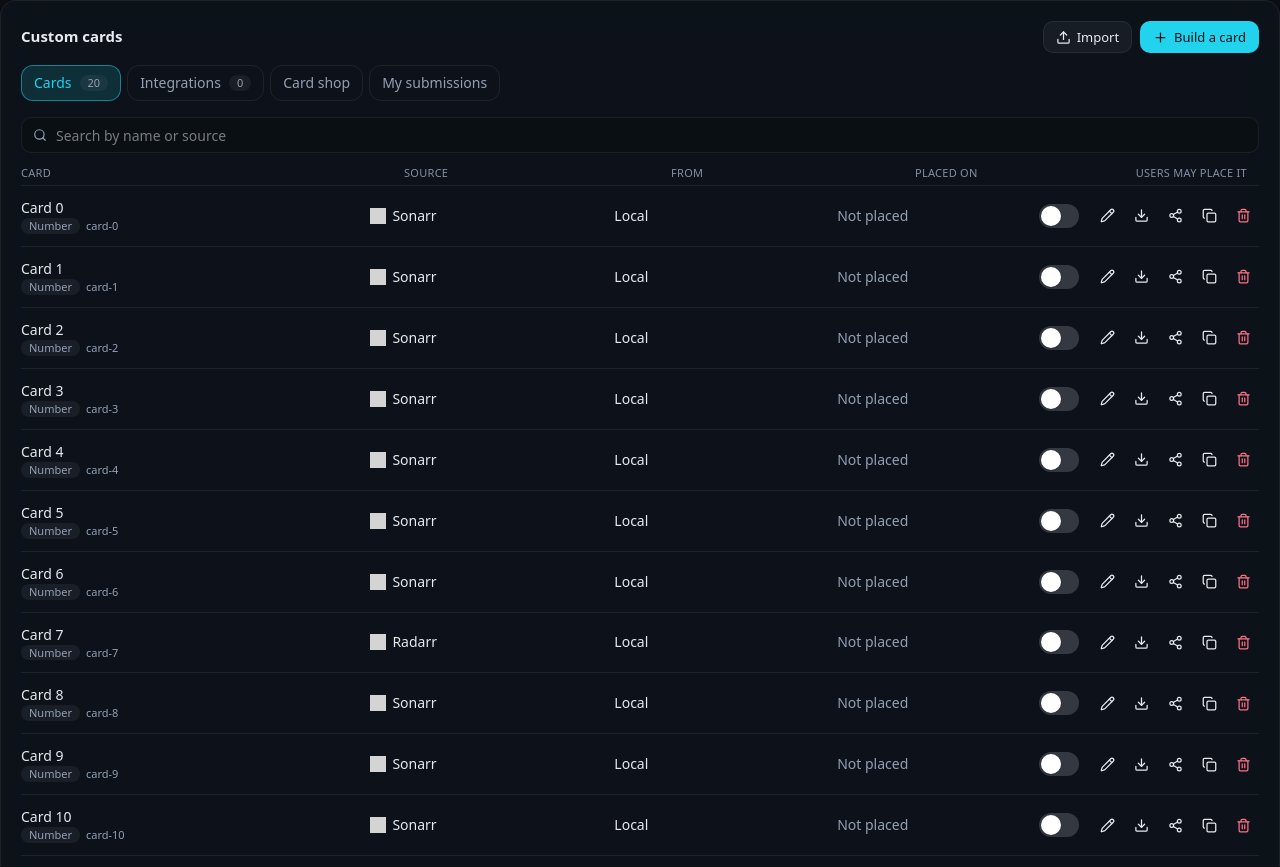
Test: the list › karten11 ec5: from twenty cards on there is a search by name and source, below twenty there is none
Expected: the text "Card 0" is shown, top-left (21, 198), bottom-right (64, 217)
Type "radarr" into the field with placeholder "Search by name or source".
click(640, 135); type("radarr")  # box top-left (21, 117), bottom-right (1259, 153)
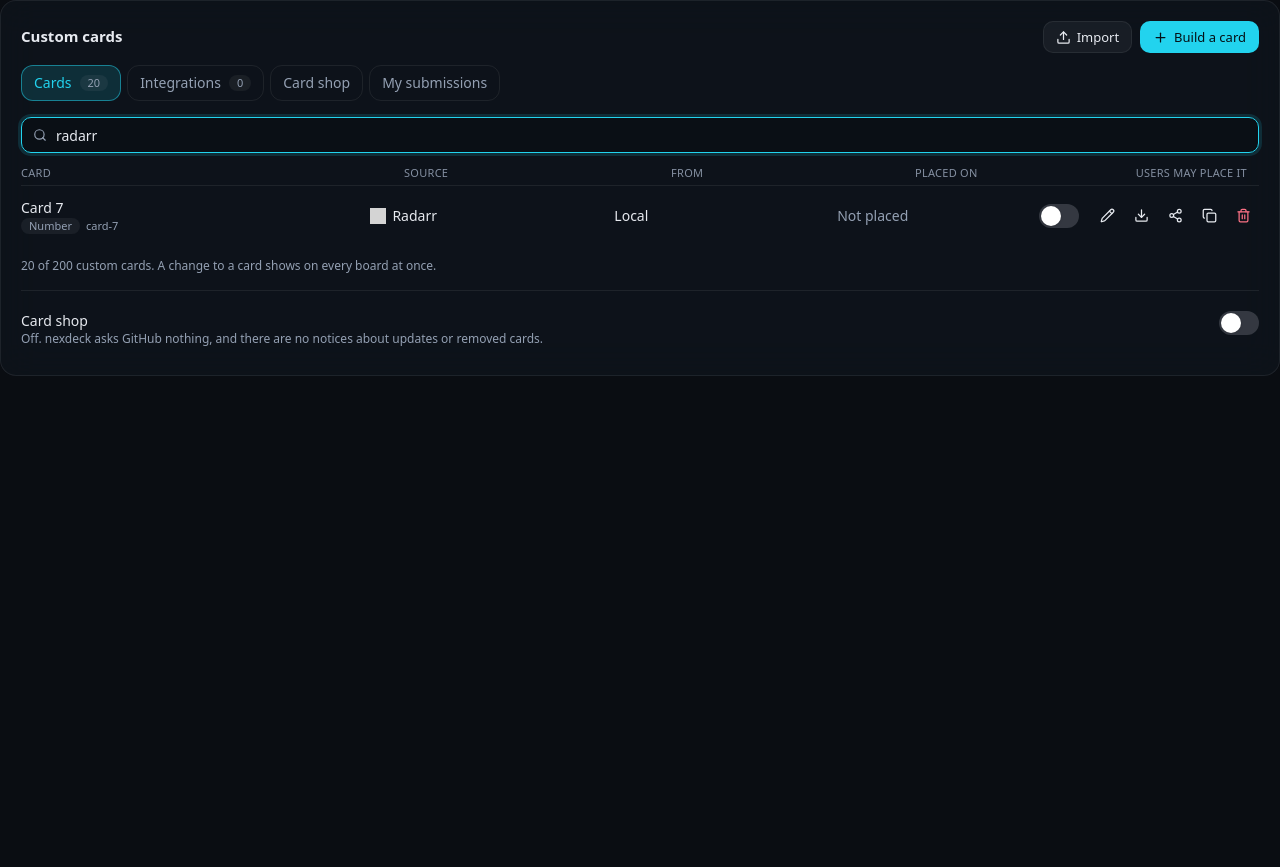
Expected: the text "Card 7" is shown, top-left (21, 198), bottom-right (64, 217)
Result: the number of list items is 1 at top-left (21, 198), bottom-right (1259, 234)
Replace the text in the field named "Search by name or source" with "card 1" at (640, 135), box top-left (21, 117), bottom-right (1259, 153)
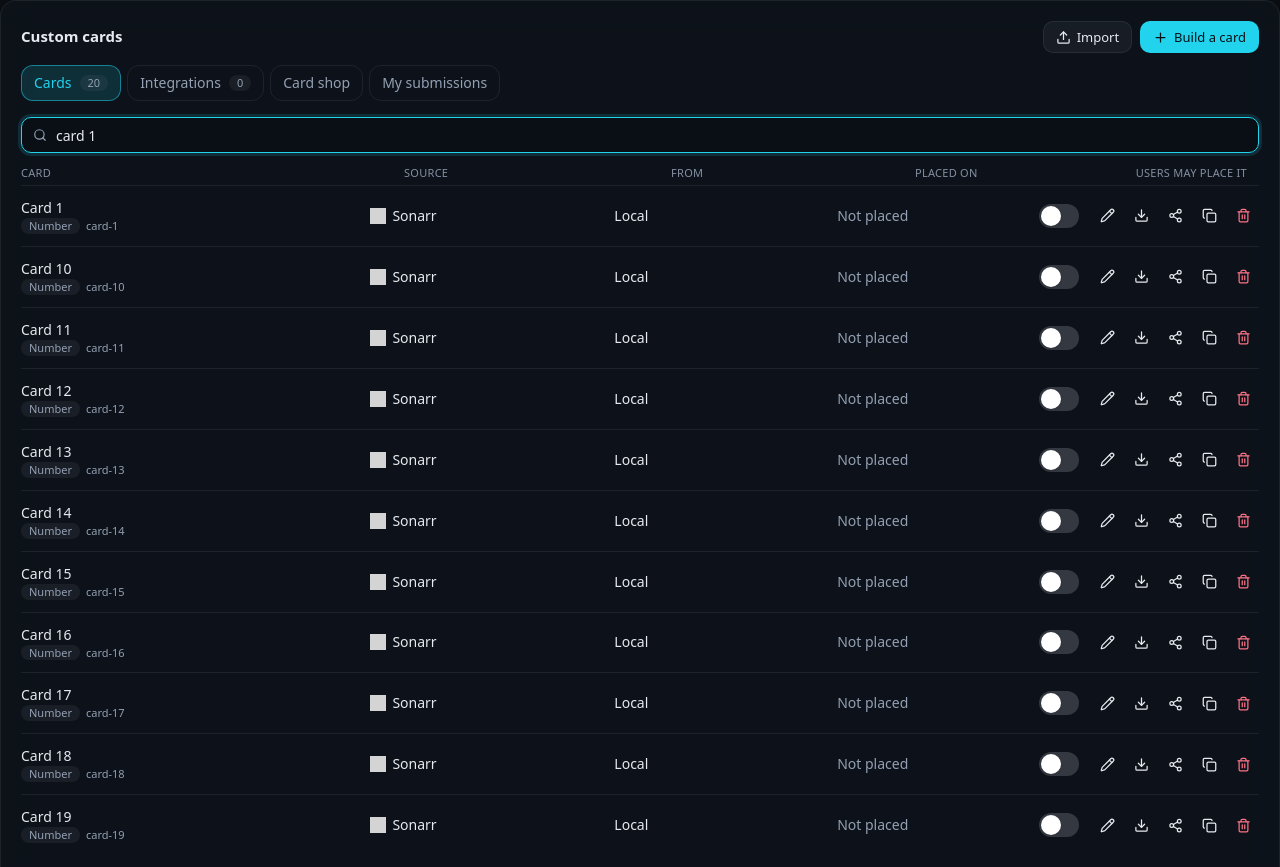
Result: the text "Card 12" is shown at top-left (21, 381), bottom-right (72, 400)
Result: the text "Card 2" is gone
